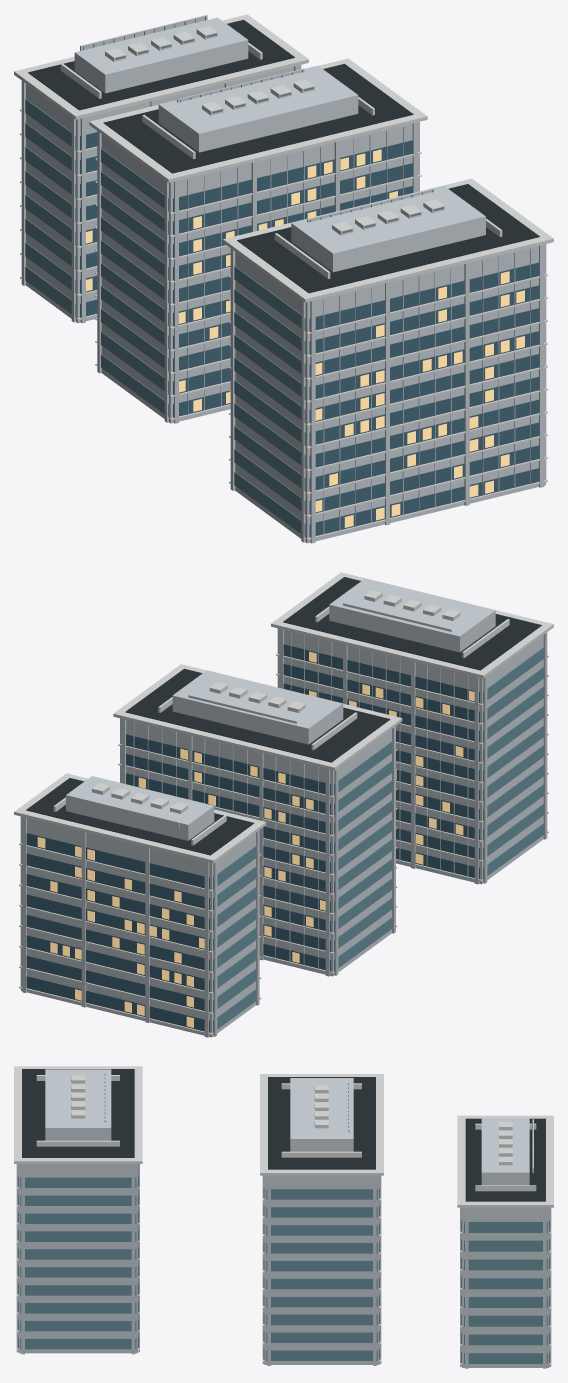
The model's file is inpatient.glb.
3 views of the same model, one above another, from view 1: azimuth 30°, elevation 25°; view 2: azimuth 150°, elevation 25°; view 3: azimuth 270°, elevation 25° (orthographic). The views are drawn at different scales.
Parts seen in each view (by area): view 1: inpatient_ivory, inpatient_glass, inpatient_glassLight, inpatient_roof, inpatient_black, CurrentRefine_inpatient_warmGlass, inpatient_ivory_detail, CurrentRefine_inpatient_roof, CurrentRefine_inpatient_ivory; view 2: inpatient_ivory, inpatient_glass, inpatient_roof, inpatient_glassLight, inpatient_black, CurrentRefine_inpatient_warmGlass, inpatient_ivory_detail, CurrentRefine_inpatient_roof, CurrentRefine_inpatient_ivory; view 3: inpatient_ivory, inpatient_glassLight, inpatient_black, inpatient_roof, CurrentRefine_inpatient_roof, inpatient_glass.
Boxes of the visible parts, x1,y1,x2,y2 form: inpatient_ivory: (21, 17, 546, 543); inpatient_glass: (80, 132, 539, 537); inpatient_glassLight: (25, 99, 305, 536); inpatient_roof: (14, 14, 553, 540); inpatient_black: (28, 19, 539, 293); CurrentRefine_inpatient_warmGlass: (86, 149, 524, 527); inpatient_ivory_detail: (187, 126, 530, 534); CurrentRefine_inpatient_roof: (105, 26, 444, 235); CurrentRefine_inpatient_ivory: (80, 15, 434, 222); inpatient_ivory: (20, 578, 547, 1037); inpatient_glass: (26, 644, 479, 1032); inpatient_roof: (14, 572, 553, 1034); inpatient_glassLight: (213, 647, 544, 1032); inpatient_black: (26, 577, 541, 855); CurrentRefine_inpatient_warmGlass: (37, 651, 474, 1027); inpatient_ivory_detail: (133, 632, 468, 968); CurrentRefine_inpatient_roof: (92, 590, 460, 813); CurrentRefine_inpatient_ivory: (70, 603, 451, 828); inpatient_ivory: (16, 1069, 551, 1368); inpatient_glassLight: (20, 1177, 547, 1363); inpatient_black: (22, 1069, 545, 1201); inpatient_roof: (14, 1066, 553, 1365); CurrentRefine_inpatient_roof: (71, 1075, 512, 1165); inpatient_glass: (18, 1164, 549, 1362).
Bounding box in the file's own units: 56.5 × 51 × 118.
